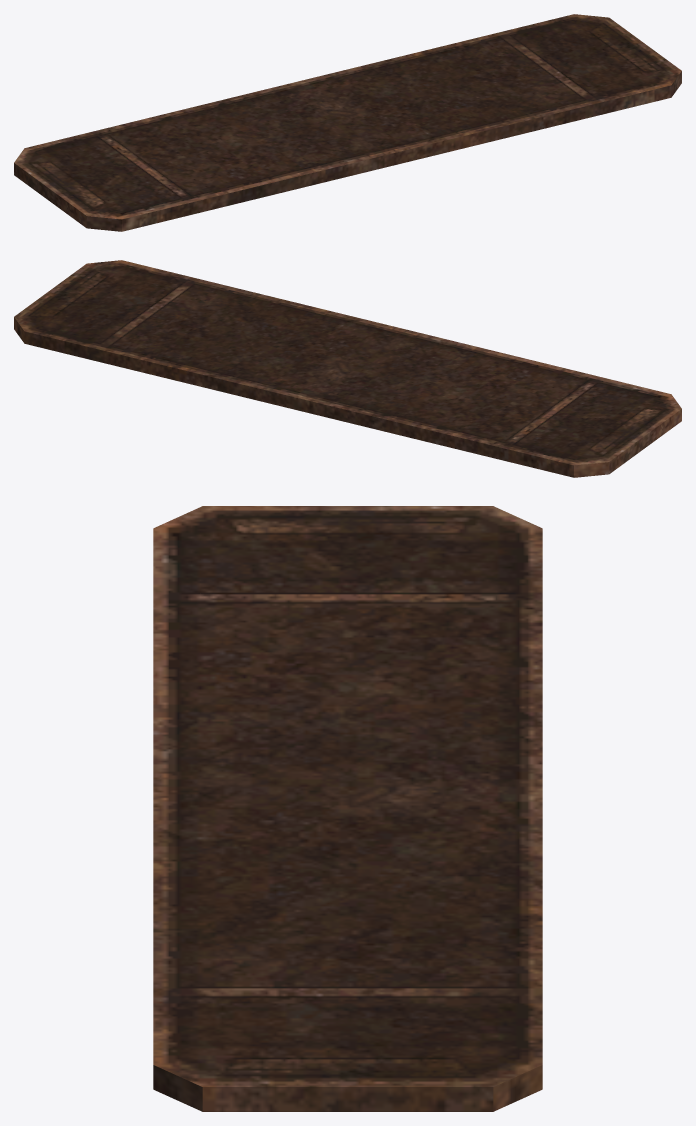
File: catwalk_rusty_step.dae
3 renders of one model, top to bottom at view 1: azimuth 30°, elevation 25°; view 2: azimuth 150°, elevation 25°; view 3: azimuth 270°, elevation 25°, orthographic. The views are drawn at different scales.
Visible parts, largest first — view 1: step; view 2: step; view 3: step.
Part boxes in pixels (left/top/right/bottom): step: left=14, top=14, right=681, bottom=231; step: left=14, top=260, right=681, bottom=477; step: left=153, top=506, right=542, bottom=1111.
Size of the model in its own units: 1.76 by 0.035 by 0.5.
